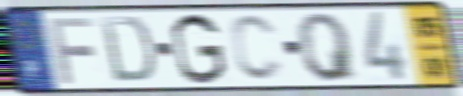4: (361, 9, 411, 84)
C: (228, 12, 287, 84)
D: (98, 14, 157, 86)
F: (46, 15, 99, 87)
G: (168, 11, 229, 87)
Q: (294, 10, 361, 84)
